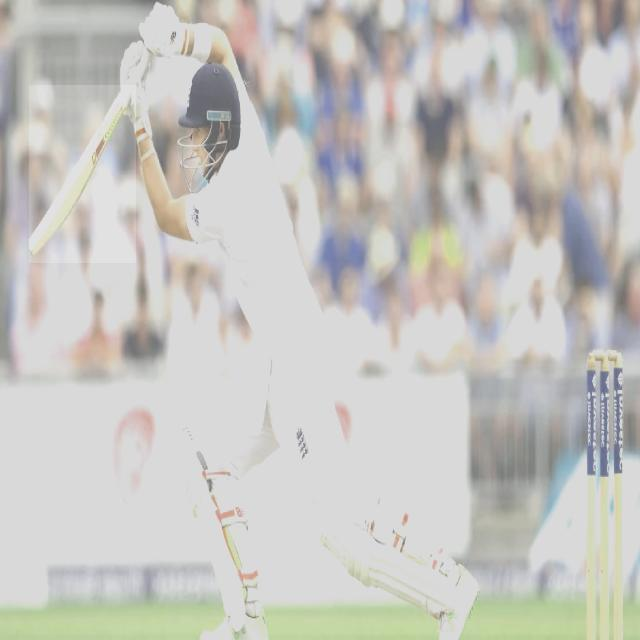bat: (24, 89, 121, 268)
